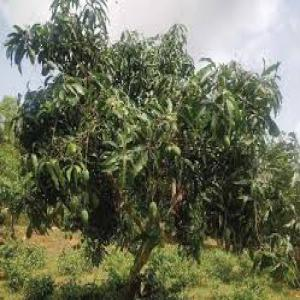Tree: (1, 0, 299, 290)
